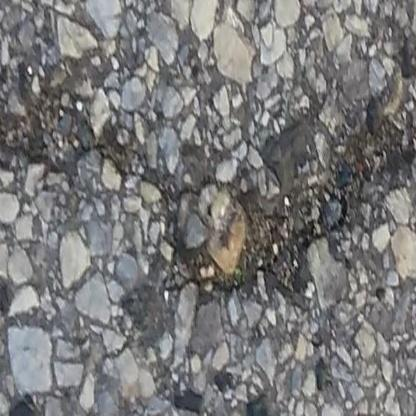Cracks: (0, 91, 416, 302), (390, 40, 416, 78)
